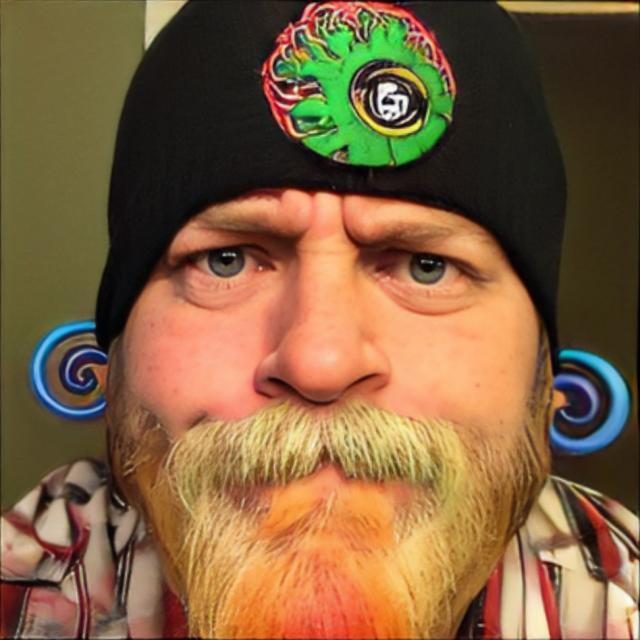anger: (122, 141, 536, 638)
